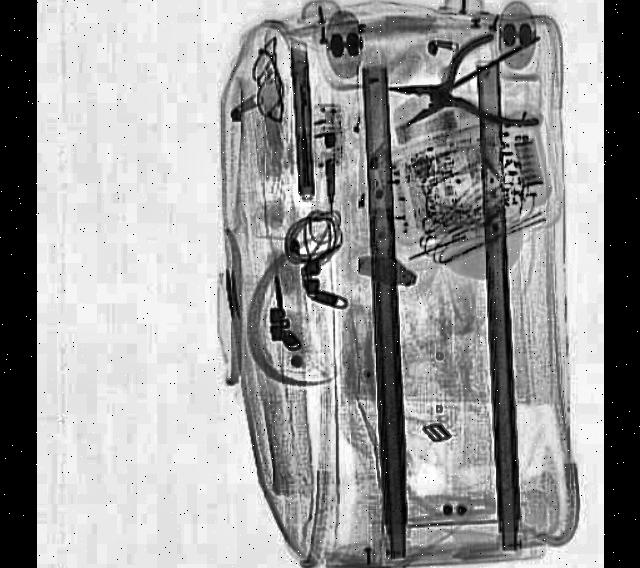Pliers: (378, 28, 538, 162)
